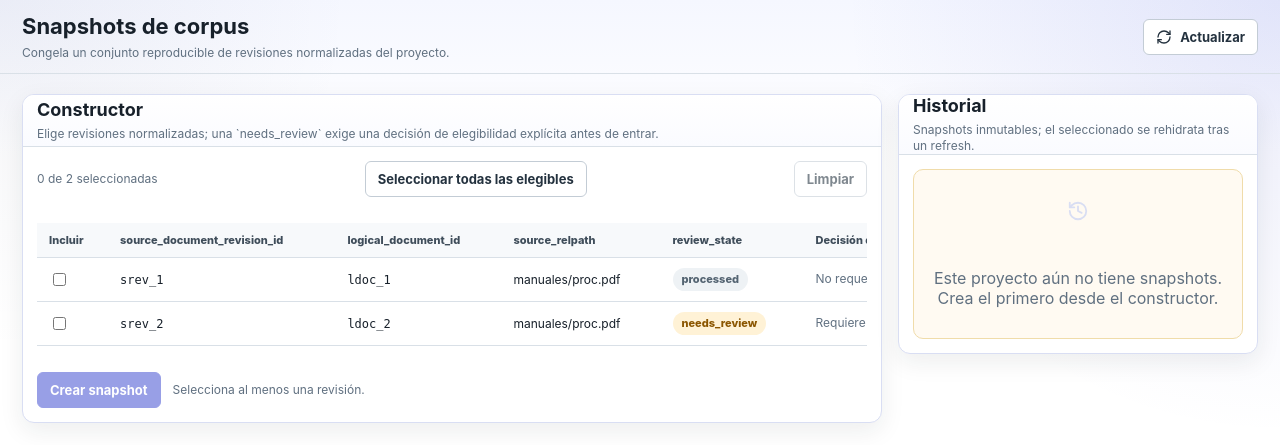
Test: CorpusSnapshotWorkspace › selecciona en bloque solo las revisiones elegibles sin auto-incluir needs_review
Click the button "Seleccionar todas las elegibles". click: x=476, y=179
box: [365, 161, 587, 197]
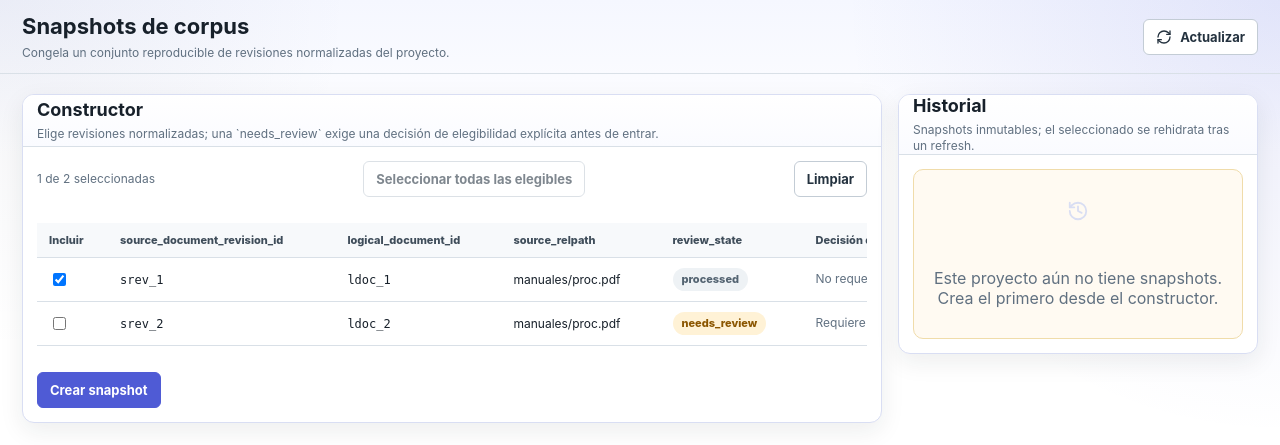
Expected: the checkbox named "Incluir revisión" is not checked, [53, 317, 66, 330]
Expected: the text "1 de 2 seleccionadas" is shown, [37, 171, 155, 187]
Expected: the checkbox named "Incluir revisión" is checked, [53, 273, 66, 286]
